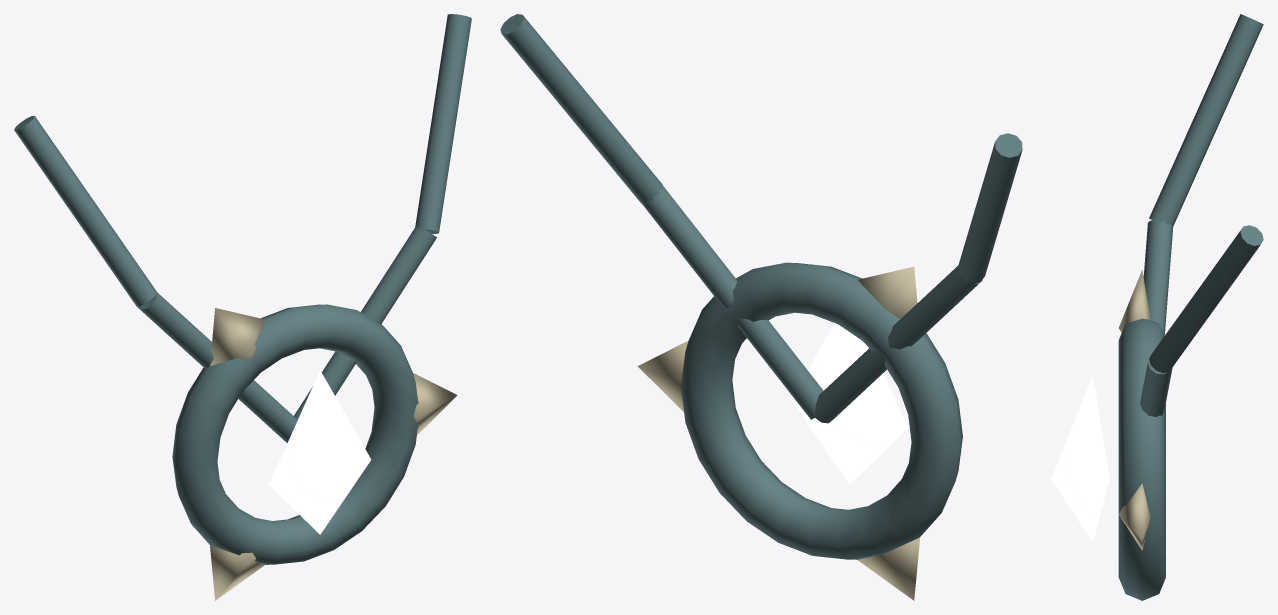
File: boss_gale_nomad_accessory_3.glb
3 renders of one model, left to right at view 1: azimuth 30°, elevation 25°; view 2: azimuth 150°, elevation 25°; view 3: azimuth 270°, elevation 25°, orthographic. The views are drawn at different scales.
Parts seen in each view (by area): view 1: Boss_gale_nomad_1, Boss_gale_nomad_2, Boss_gale_nomad_0; view 2: Boss_gale_nomad_1, Boss_gale_nomad_2, Boss_gale_nomad_0; view 3: Boss_gale_nomad_1, Boss_gale_nomad_2, Boss_gale_nomad_0.
Part boxes in pixels (<box>): Boss_gale_nomad_1: <box>14,14,471,564</box>; Boss_gale_nomad_2: <box>269,370,371,534</box>; Boss_gale_nomad_0: <box>210,308,457,600</box>; Boss_gale_nomad_1: <box>500,14,1022,559</box>; Boss_gale_nomad_2: <box>791,323,907,484</box>; Boss_gale_nomad_0: <box>637,266,920,600</box>; Boss_gale_nomad_1: <box>1118,14,1263,600</box>; Boss_gale_nomad_2: <box>1051,375,1109,542</box>; Boss_gale_nomad_0: <box>1118,270,1150,550</box>.
Bounding box in the file's own units: 0.2925 × 0.2941 × 0.1162.
